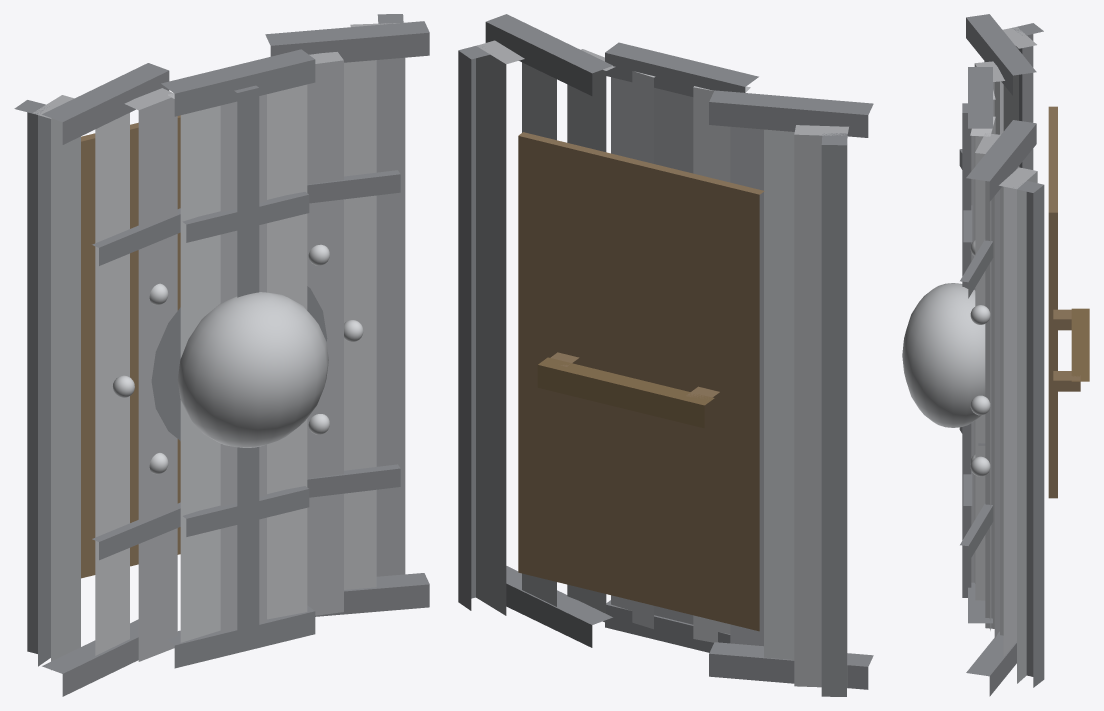
Rendered from iron_shield.glb.
The picture shows the model from 3 angles, left to right: view 1: azimuth 30°, elevation 25°; view 2: azimuth 150°, elevation 25°; view 3: azimuth 270°, elevation 25°; orthographic projection. The views are drawn at different scales.
Visible parts, largest first — view 1: IronShield; view 2: IronShield; view 3: IronShield.
Boxes of the visible parts, bbox=[...] form: IronShield: bbox=[14, 14, 429, 696]; IronShield: bbox=[458, 14, 873, 696]; IronShield: bbox=[902, 14, 1089, 696].
Bounding box in the file's own units: 0.8853 × 1.25 × 0.412.
